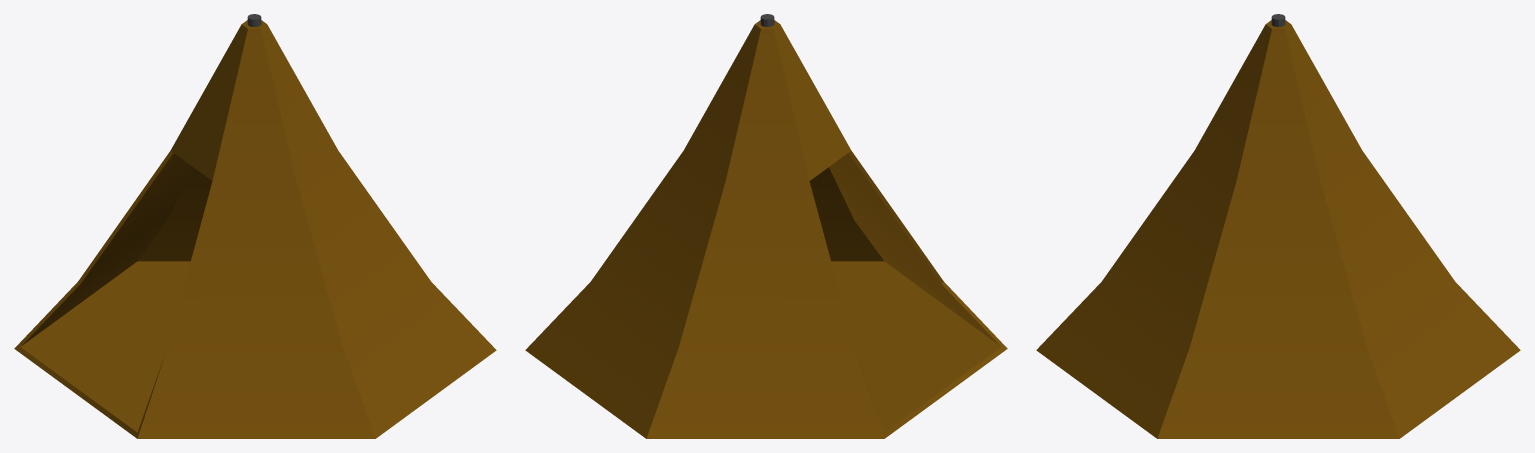
The model's file is Tent.fbx.
3 renders of one model, left to right at view 1: azimuth 30°, elevation 25°; view 2: azimuth 150°, elevation 25°; view 3: azimuth 270°, elevation 25°, orthographic.
Visible parts, largest first — view 1: Cone; view 2: Cone; view 3: Cone.
Boxes of the visible parts, x1=… form: Cone: x1=14, y1=20, x2=496, y2=438; Cone: x1=525, y1=20, x2=1007, y2=438; Cone: x1=1036, y1=20, x2=1520, y2=438.
Bounding box in the file's own units: 6.69 × 5.97 × 7.79.
